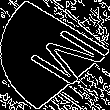M_SE: (8, 21, 102, 89)
